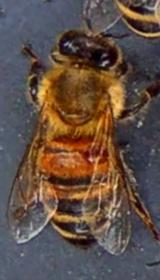varroa_mite: (70, 134, 120, 172)
